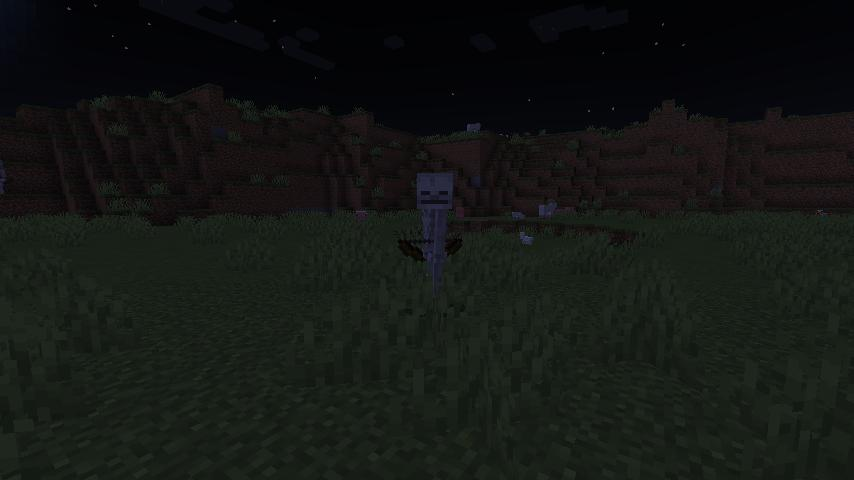chicken: (516, 230, 536, 247), (815, 209, 829, 221)
pig: (354, 209, 369, 226), (556, 205, 576, 217), (454, 205, 466, 219)
sheep: (537, 201, 558, 221), (465, 121, 483, 134), (510, 210, 527, 221)
skeleton: (396, 166, 469, 302)
